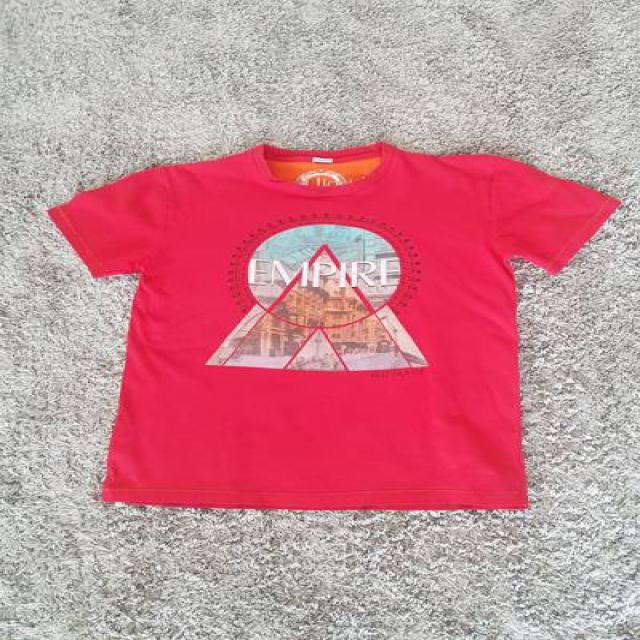shirt: (40, 143, 620, 510)
